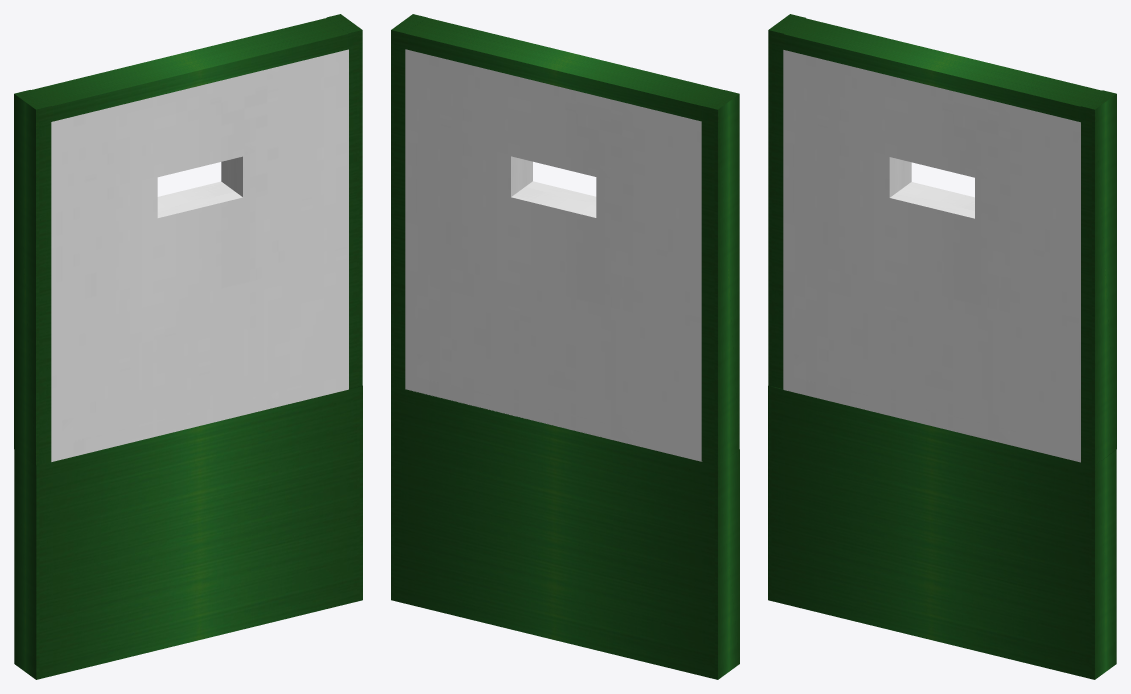
File: door.fbx
3 views of the same model, side by side, from view 1: azimuth 30°, elevation 25°; view 2: azimuth 150°, elevation 25°; view 3: azimuth 330°, elevation 25° (orthographic).
Parts seen in each view (by area): view 1: Box004; view 2: Box004; view 3: Box004.
Part boxes in pixels (bbox=[...]): Box004: bbox=[14, 14, 362, 679]; Box004: bbox=[391, 14, 739, 679]; Box004: bbox=[768, 14, 1116, 679].
Bounding box in the file's own units: 110 × 183 × 12.83.
Materials: 4 (4 with a texture image).
